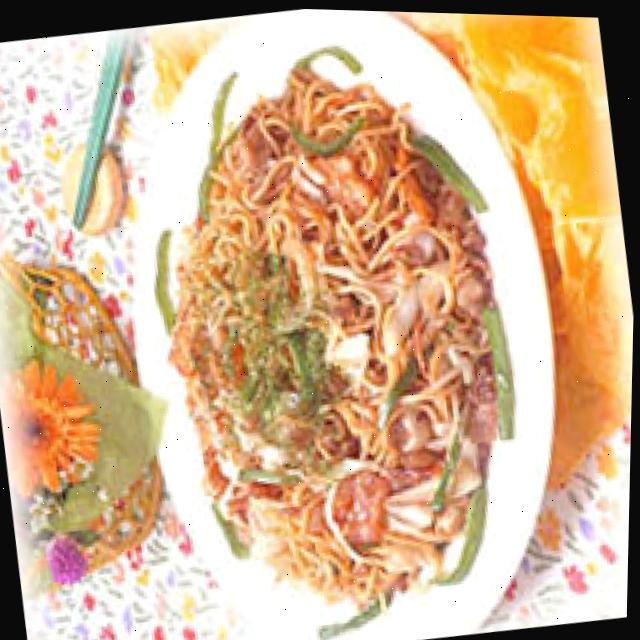面条主食: (115, 54, 544, 637)
